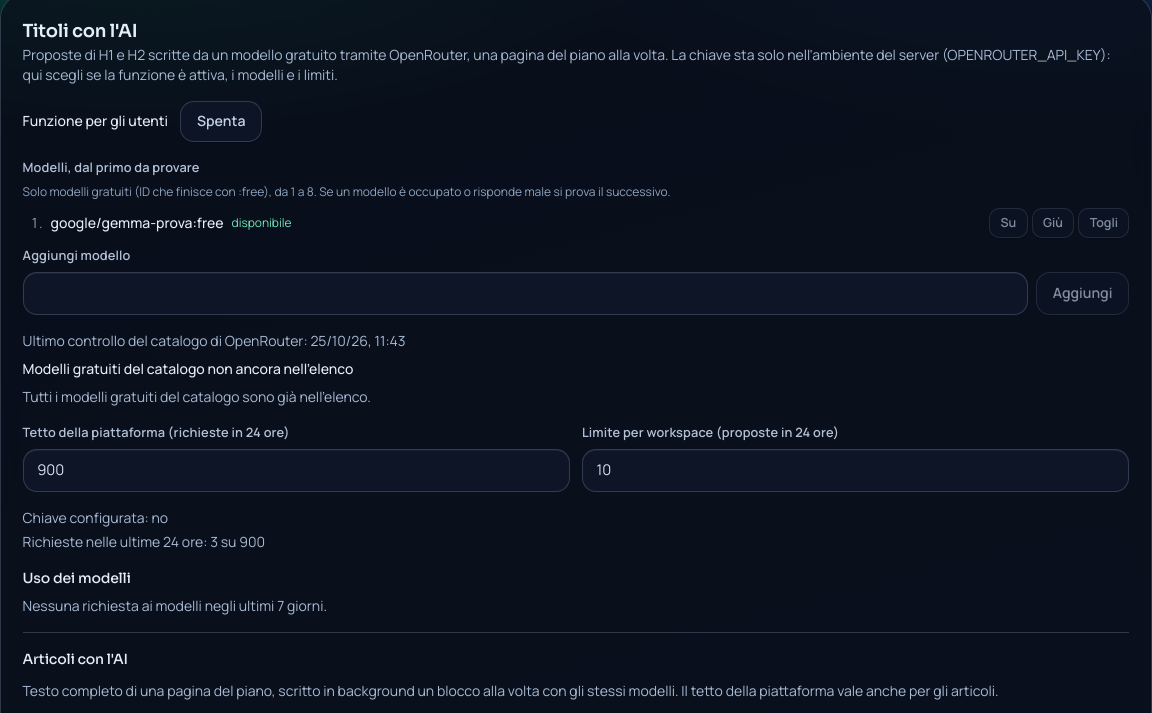
Test: card dei titoli con l'AI › mostra chiave e richieste, poi salva l'interruttore acceso e il modello aggiunto con «Salvato»
This screenshot has width=1152, height=713.
Expected: the list item "Chiave configurata: no" is shown, [23,508,168,527]
Expected: the list item "Richieste nelle ultime 24 ore: 3 su 900" is shown, [23,532,265,551]
Click the switch named "Funzione per gli utenti" at (221, 121), box [180,101,262,142]
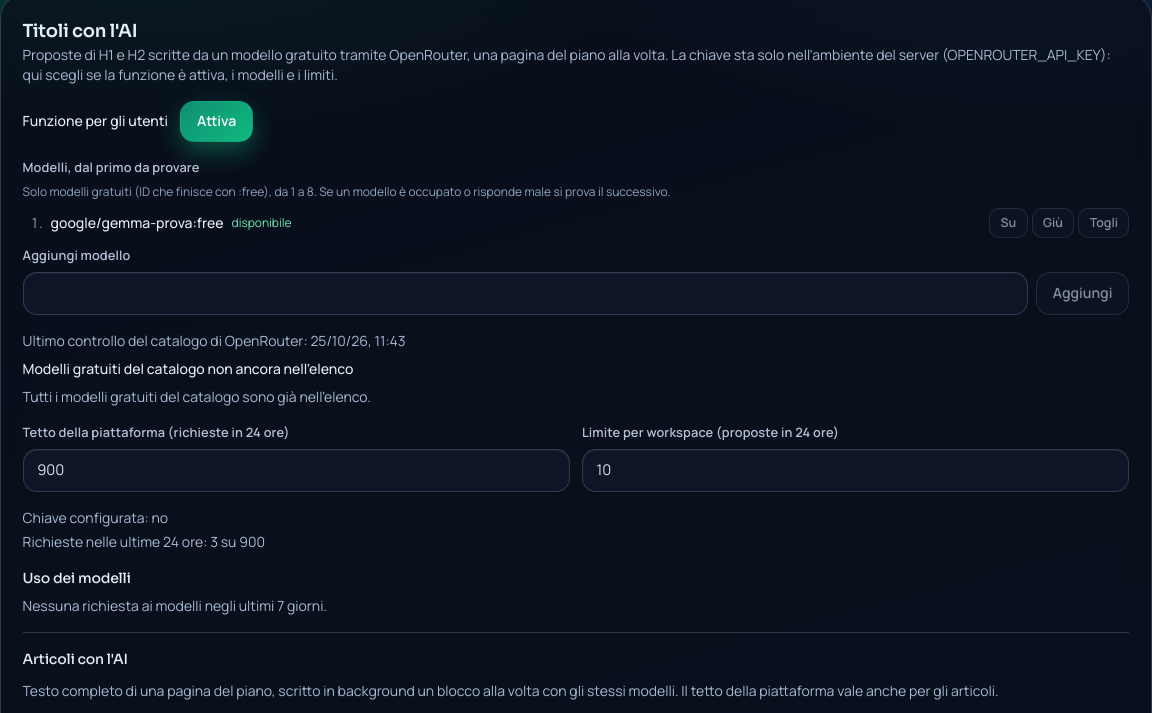
Now the switch named "Funzione per gli utenti" is checked, box [180,101,253,142]
Type "autore/altro:free" into the field labelled "Aggiungi modello" at (525, 293), box [23,272,1028,315]
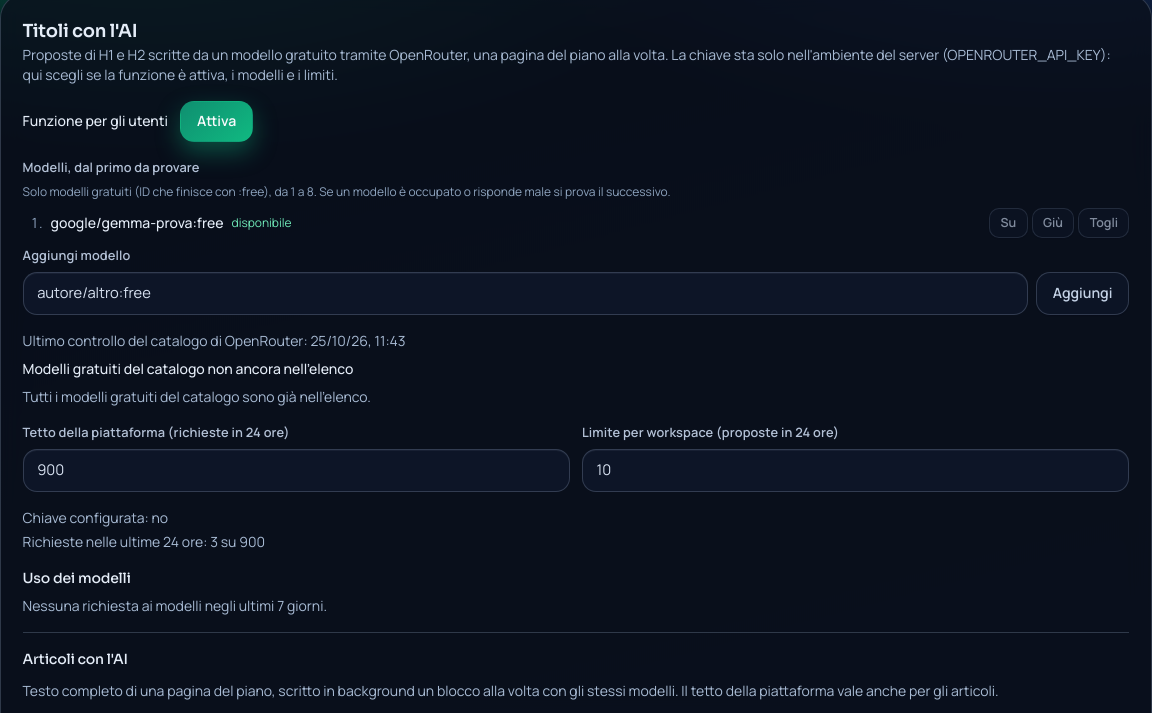
Click the button "Aggiungi" at (1083, 293), box [1036,272,1129,315]
(page scrolled)
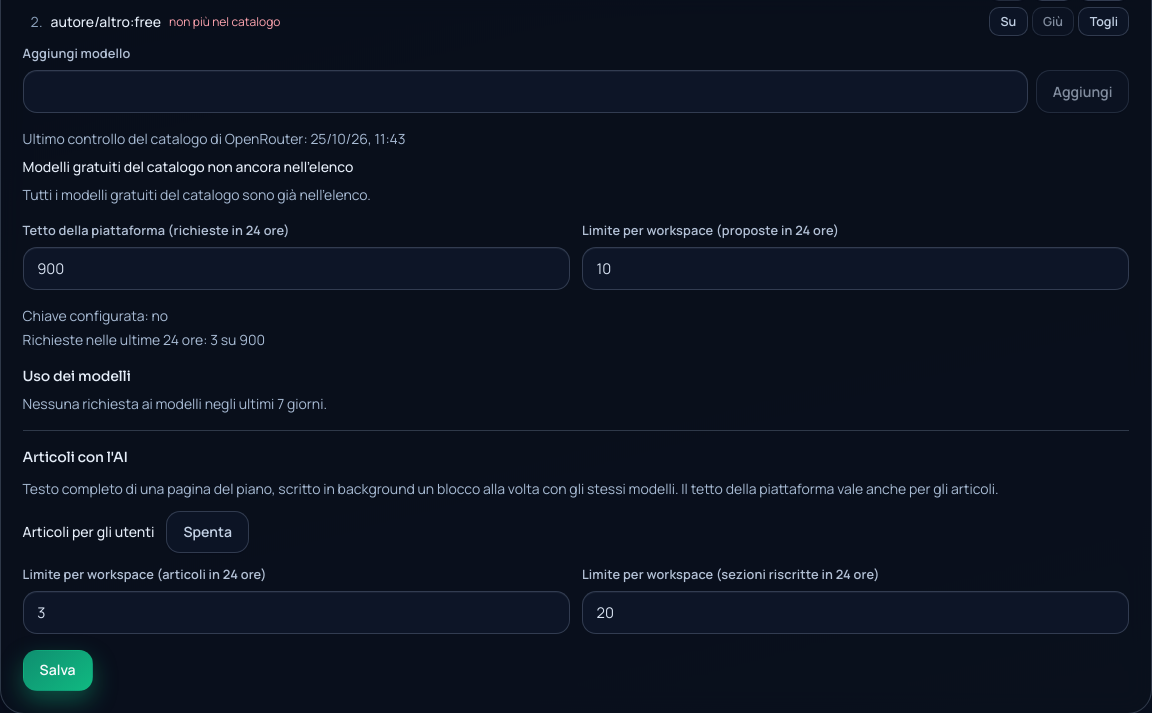
Click the button "Salva" at (58, 671), box [23,650,93,692]
(page scrolled)
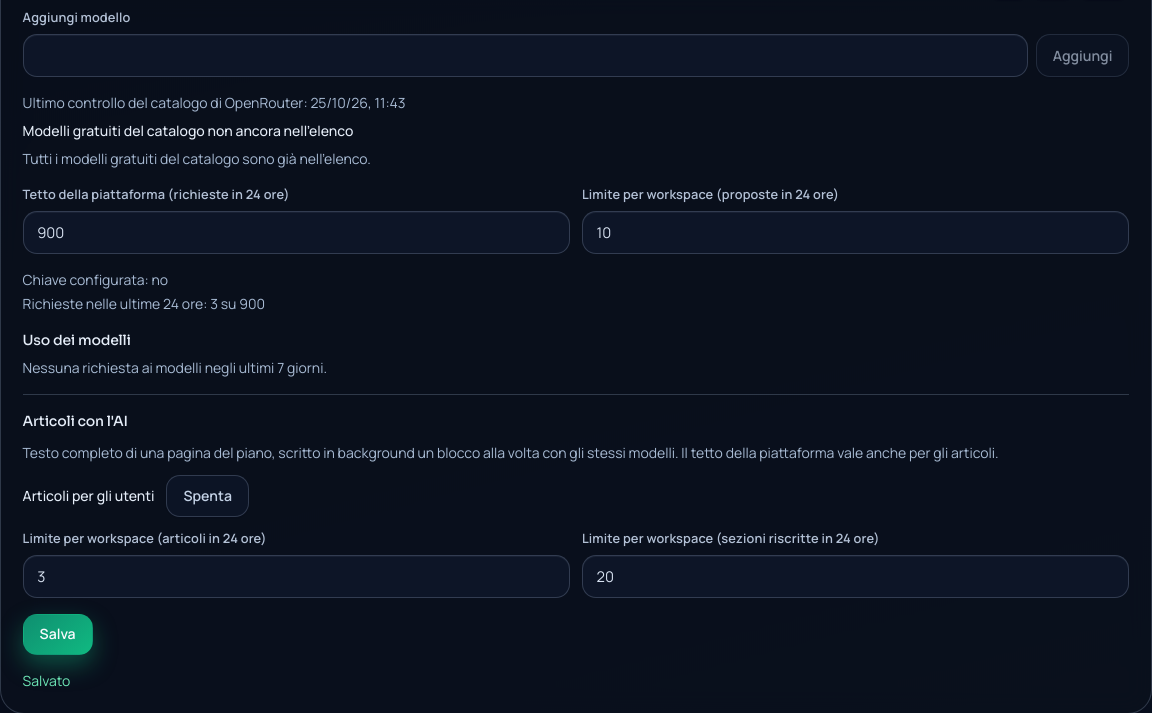
Now the text "Salvato" is shown, box [23,672,70,690]
